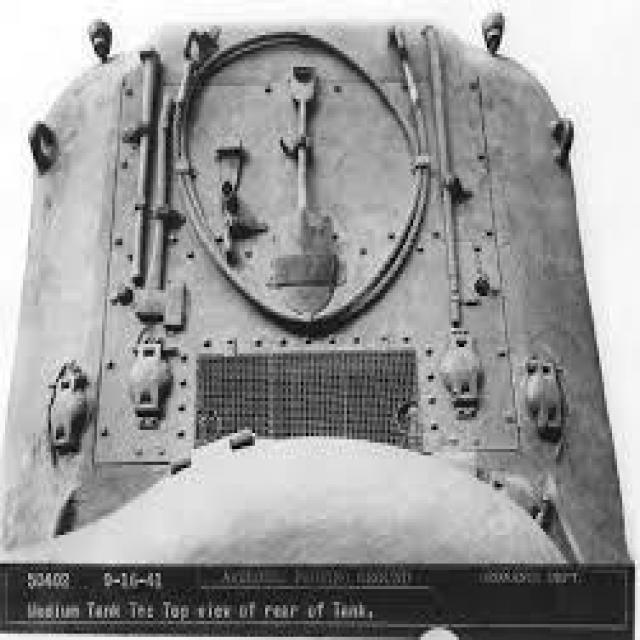MIL_MBT: (28, 35, 569, 583)
